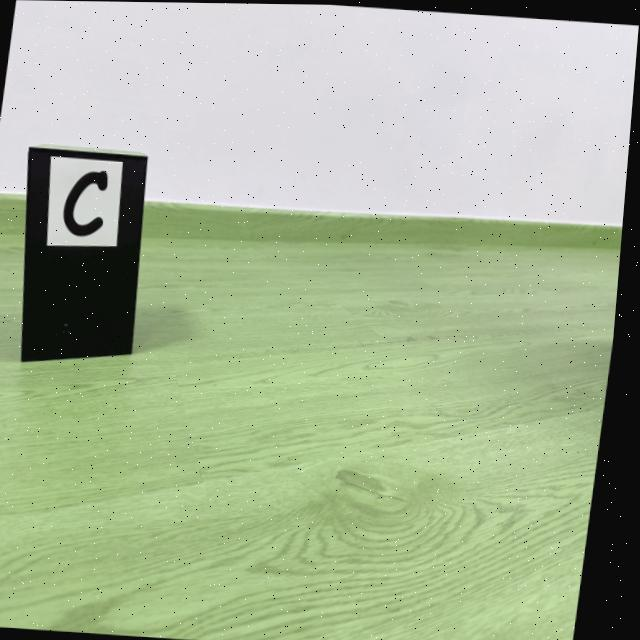C: (66, 170, 111, 237)
